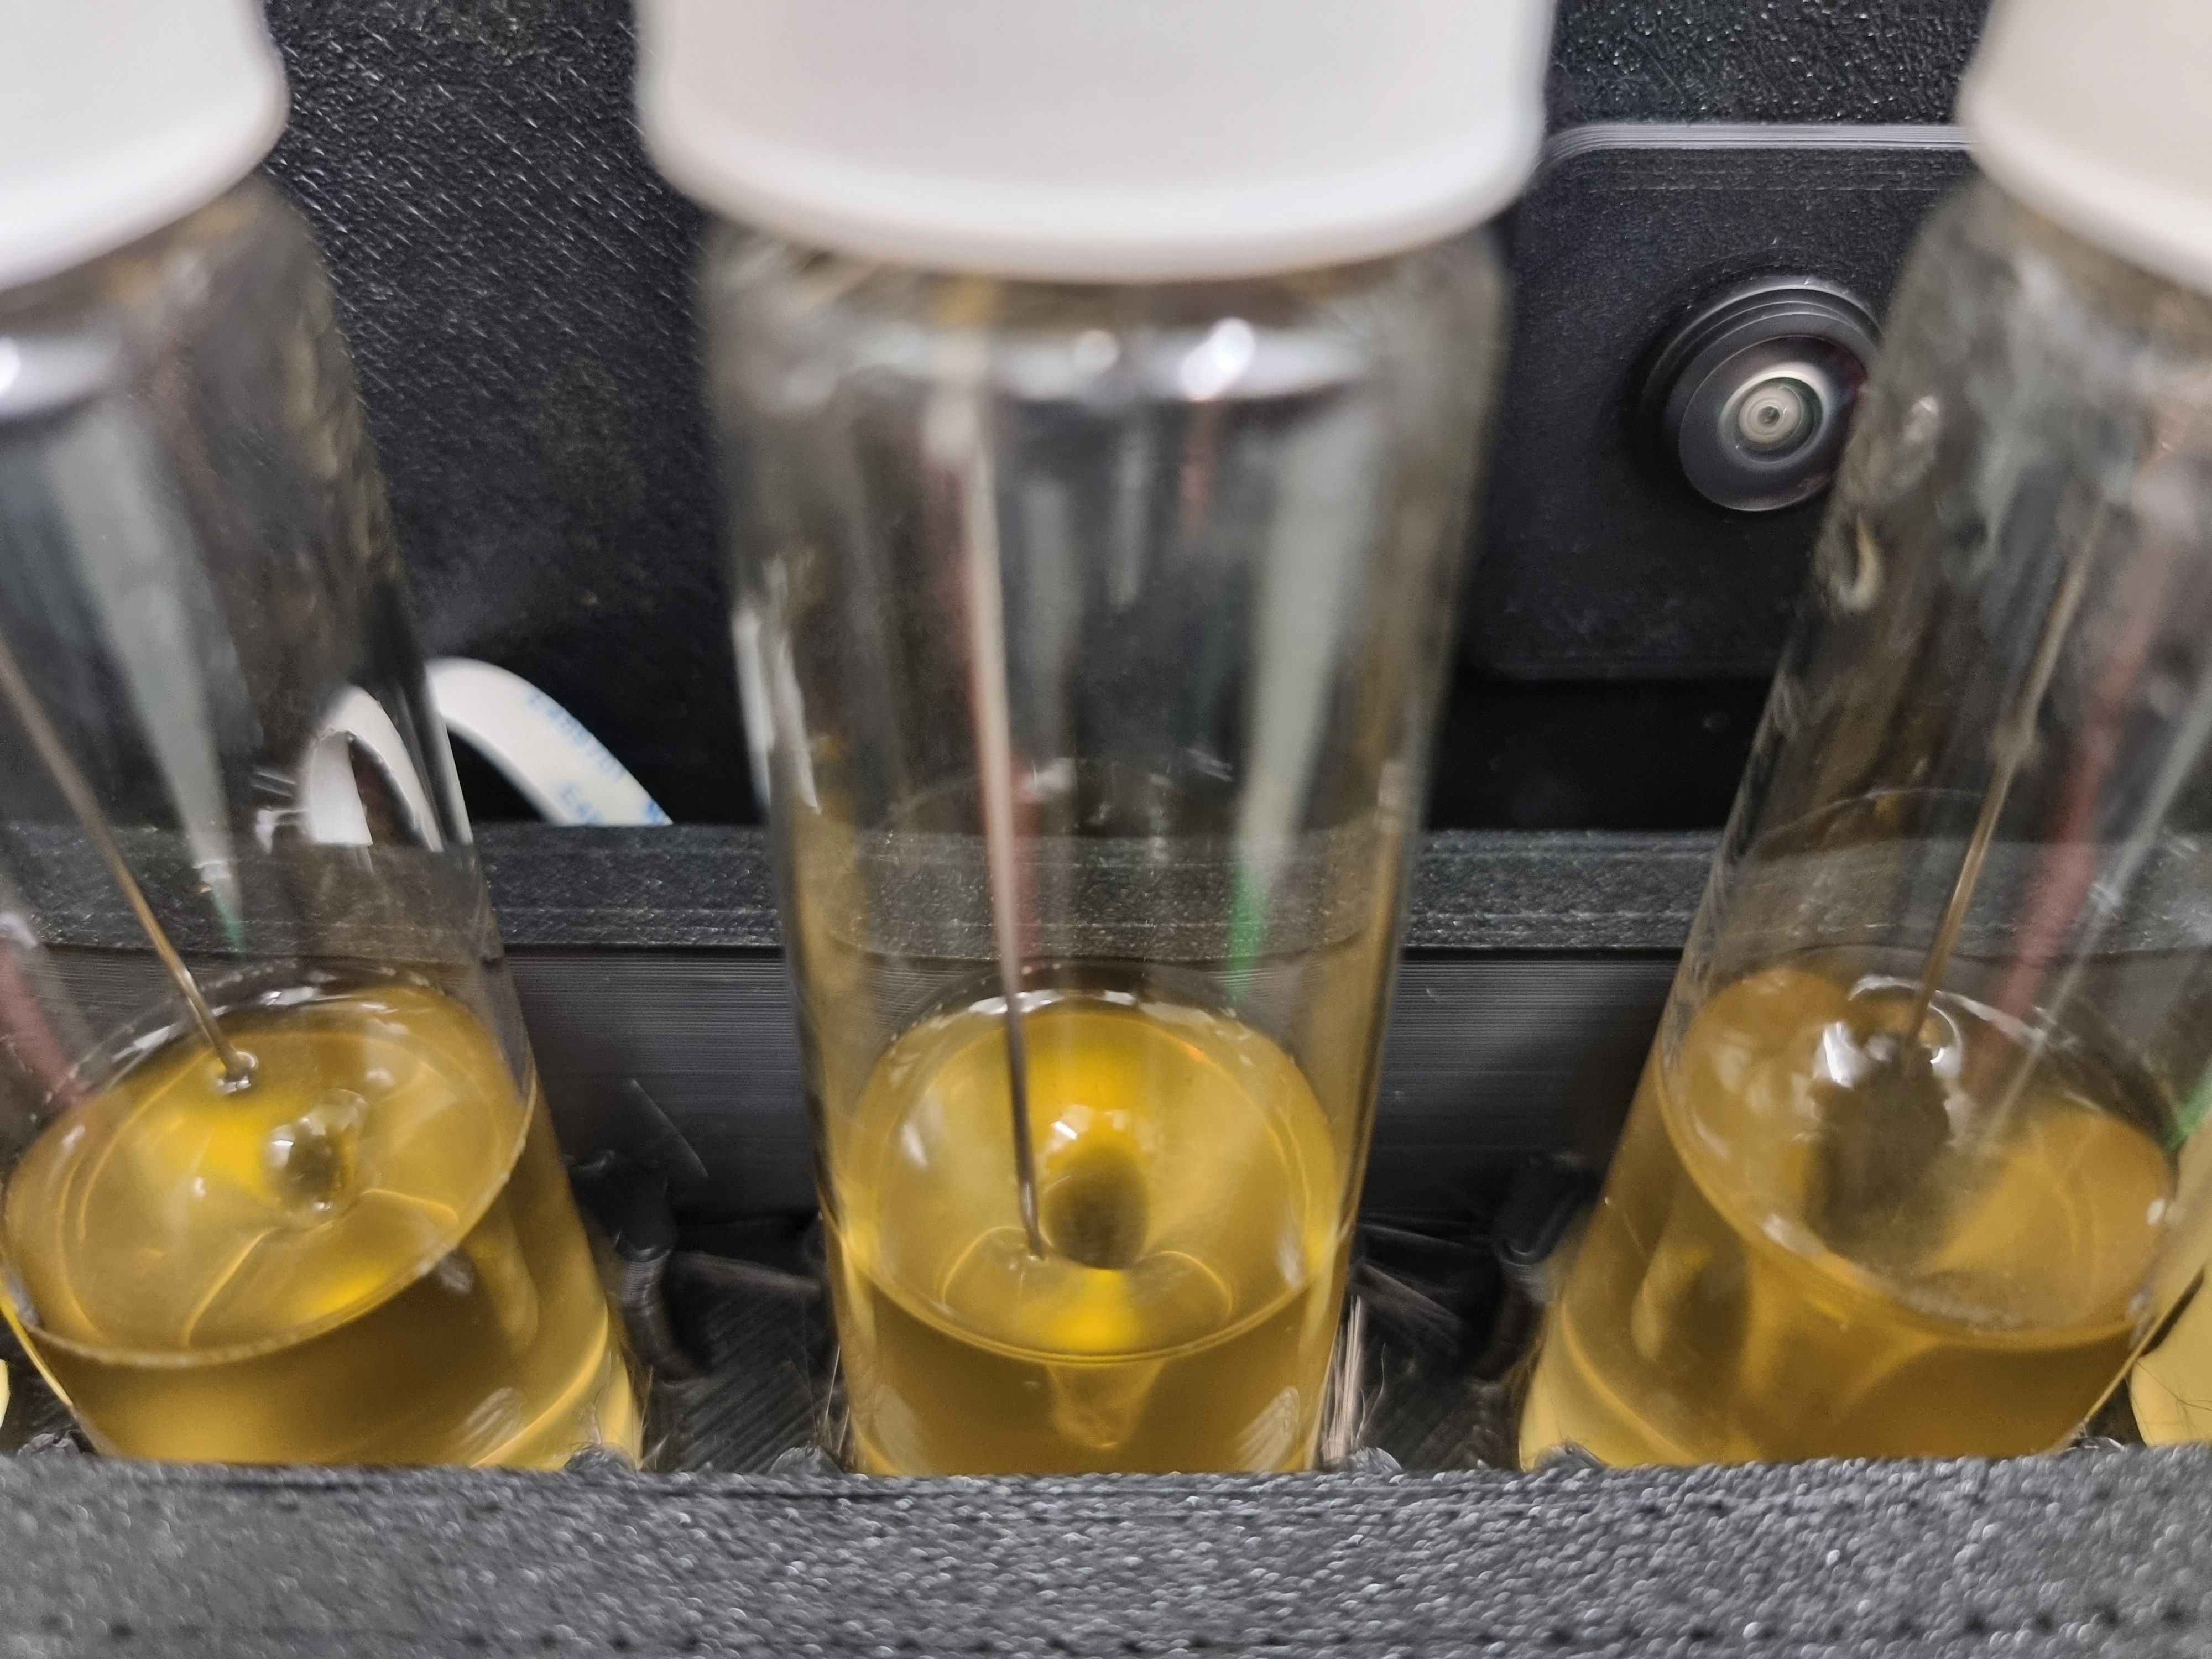vial: (629, 0, 1557, 1473), (1529, 5, 2212, 1462), (3, 7, 660, 1467)
